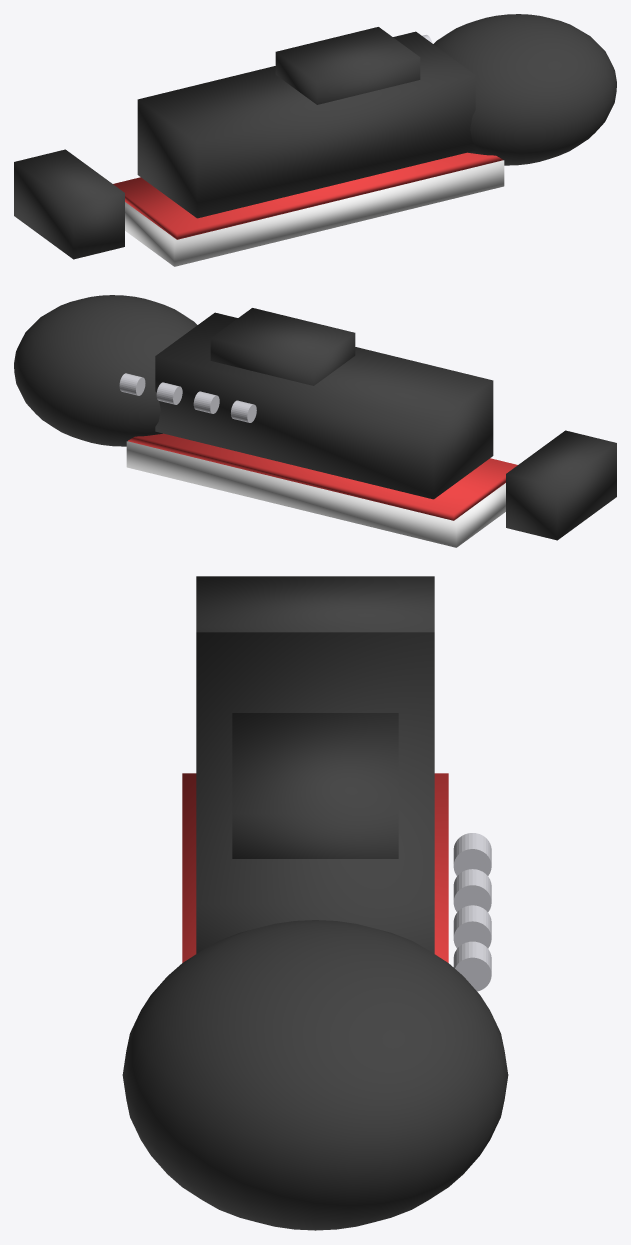
Rendered from sneaker_ct70.glb.
3 renders of one model, top to bottom at view 1: azimuth 30°, elevation 25°; view 2: azimuth 150°, elevation 25°; view 3: azimuth 270°, elevation 25°, orthographic. The views are drawn at different scales.
Visible parts, largest first — view 1: sneaker_ct70; view 2: sneaker_ct70; view 3: sneaker_ct70.
Part boxes in pixels (x1,y1,x2,y2): sneaker_ct70: (14,14,616,266); sneaker_ct70: (14,295,616,547); sneaker_ct70: (122,576,508,1230).
Bounding box in the file's own units: 2.72 × 0.6425 × 0.81.
